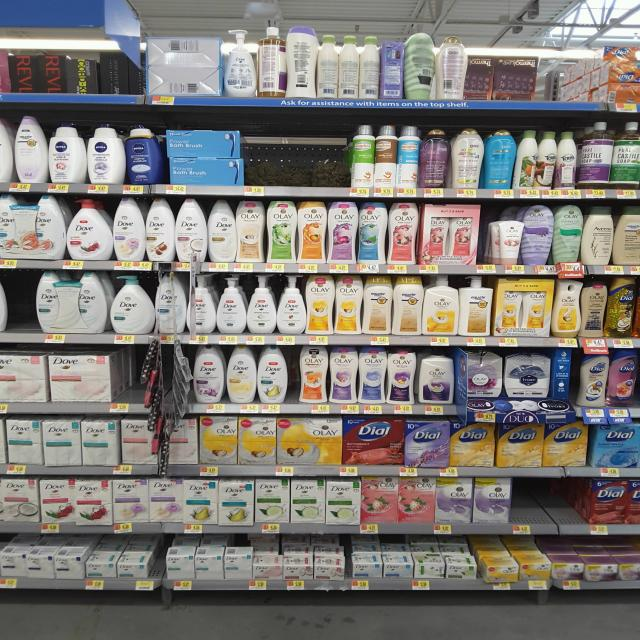void: (518, 479, 592, 520)
